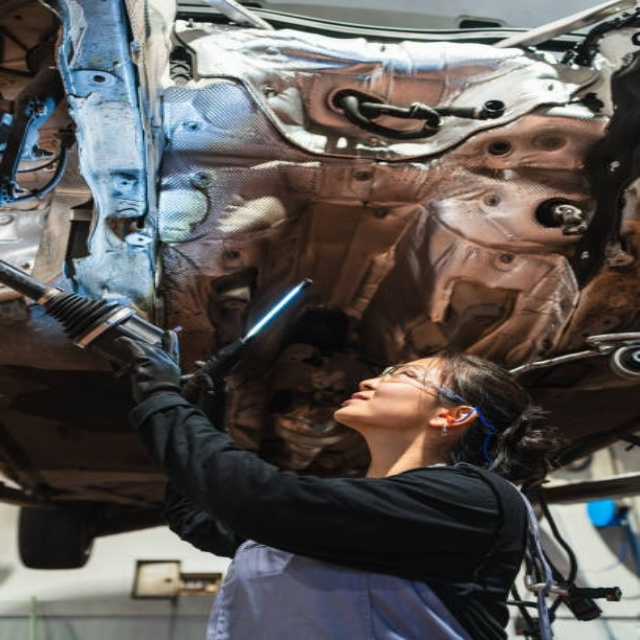Gafas: (388, 368, 473, 409)
Guantes: (102, 323, 186, 407)
Sin_mascara: (331, 385, 372, 416)
